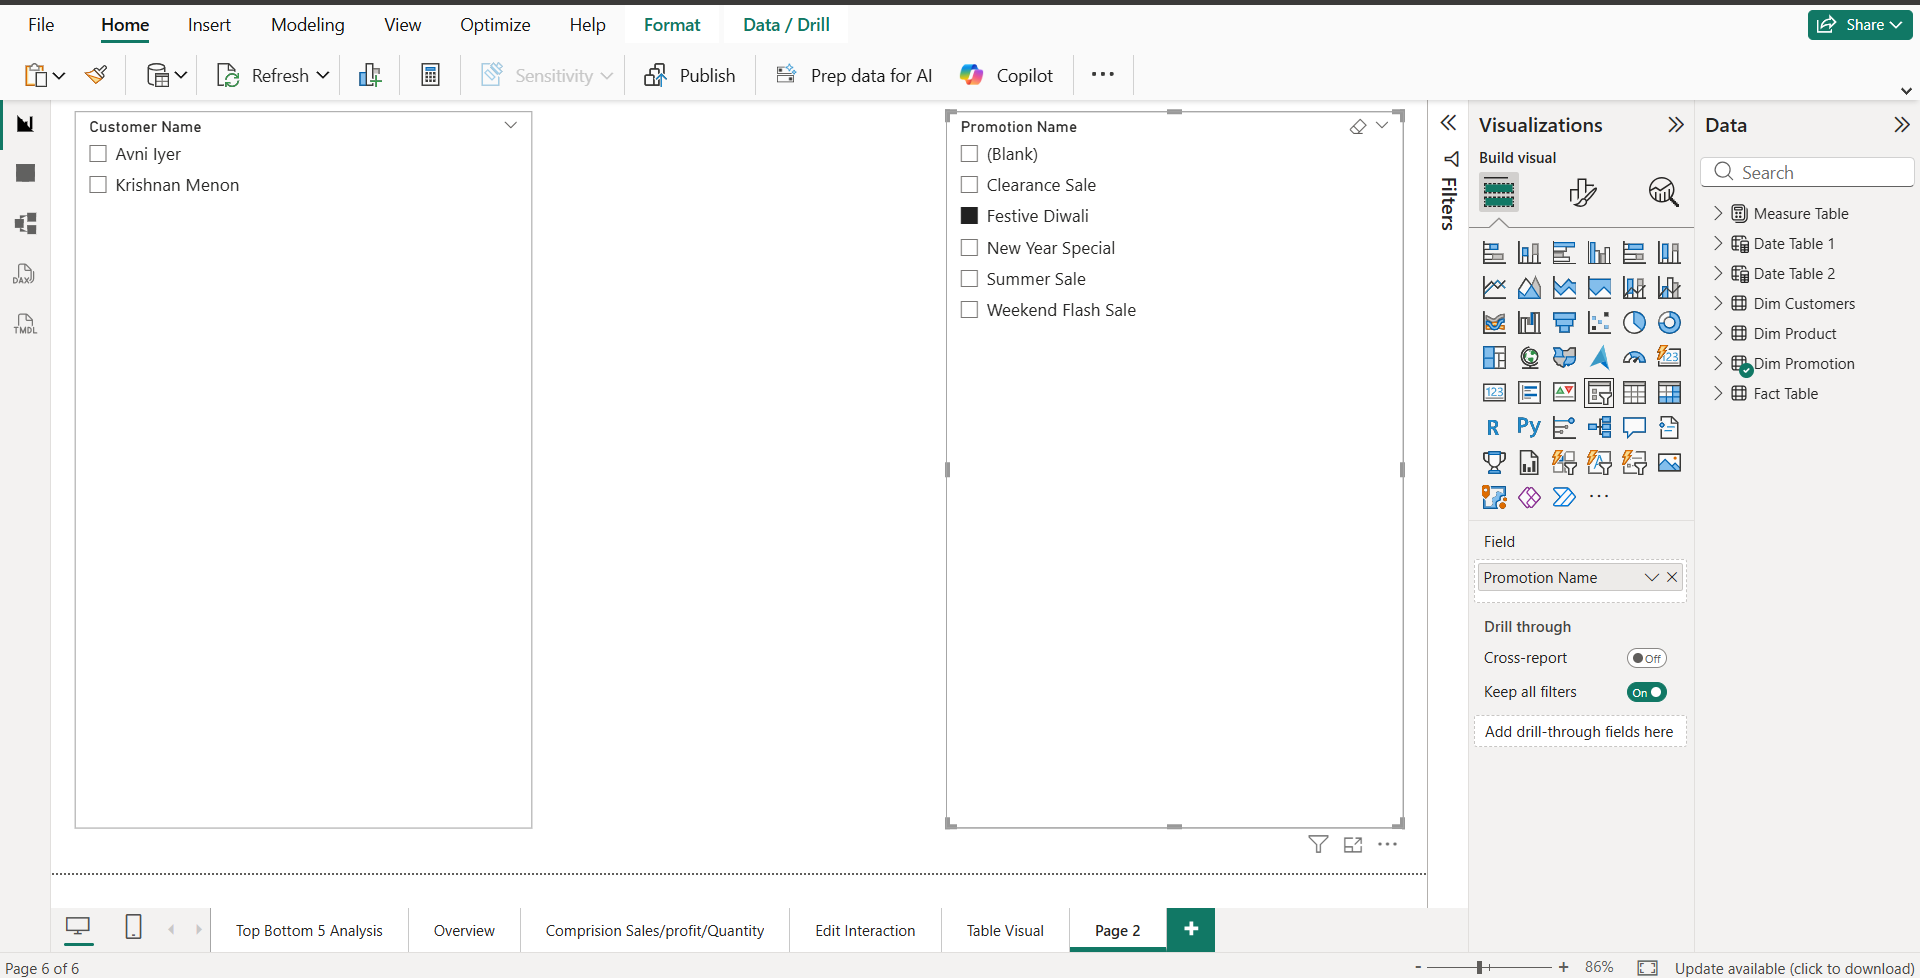

This screenshot's page, from the dashboard's own definition file:
{"tool":"powerbi","page":{"name":"Filter Page ","canvas":[1280,720],"ordinal":5},"visuals":[{"type":"slicer","fields":{"Values":["Dim Customers.Customer Name"]},"box":[22,11,425.4,666.9],"z":0},{"type":"slicer","fields":{"Values":["Dim Promotion.Promotion Name"]},"box":[832.9,11,425.4,666.9],"z":1000}]}

Visuals, with their boxes on the page's 1280x720 design canvas (x1, y1, x2, y2). These are canvas units, not pixel positions in the 1920x978 screenshot, which may show the page scaled, cropped or inside an application window:
slicer - Dim Customers.Customer Name: pyautogui.locateOnScreen(22, 11, 447, 678)
slicer - Dim Promotion.Promotion Name: pyautogui.locateOnScreen(833, 11, 1258, 678)
